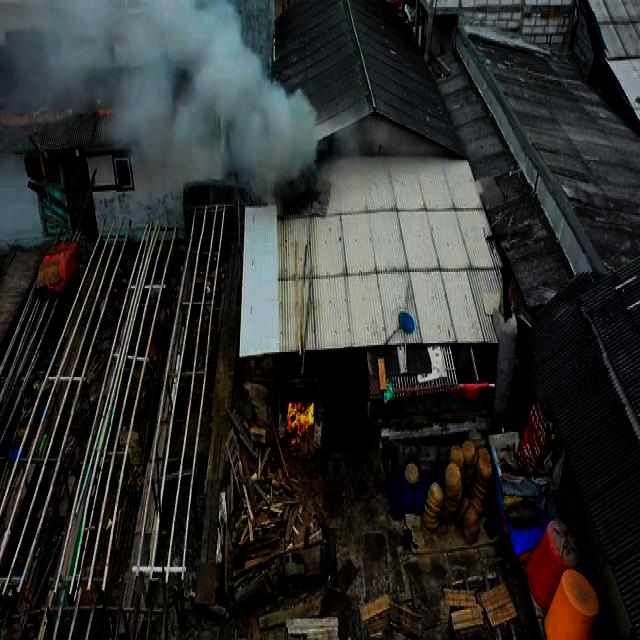smoke: (142, 3, 246, 115), (235, 61, 319, 198), (73, 2, 162, 120), (1, 2, 83, 112), (128, 106, 248, 180)
